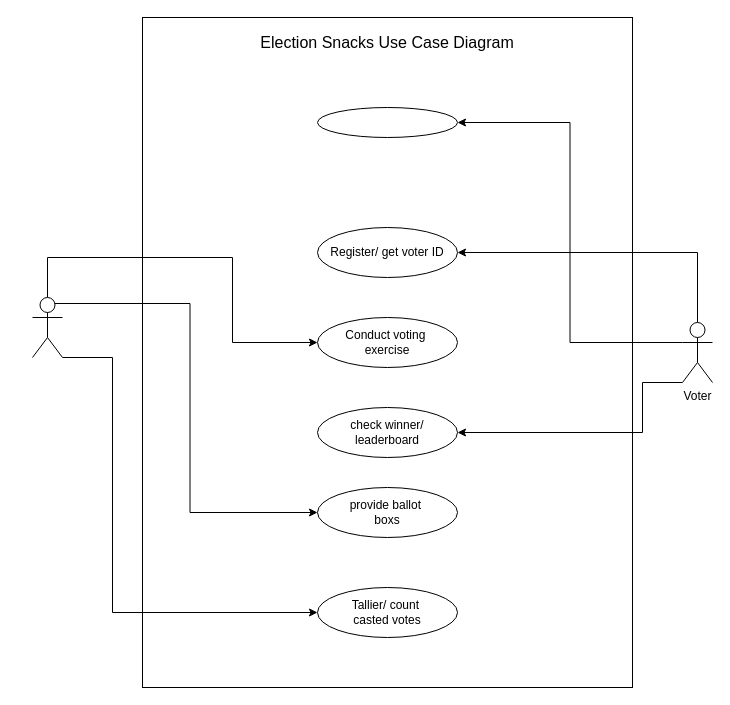
Image size: 730x705. Some labels were removed from this diagram. Here are the shapes that lost their labels. From the top down, the centre of each, then its label:
(387,122): Cast vote
(47,327): Polling Unit
